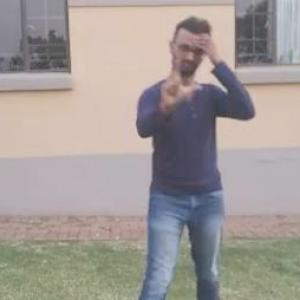land_hand: (154, 45, 206, 105)
